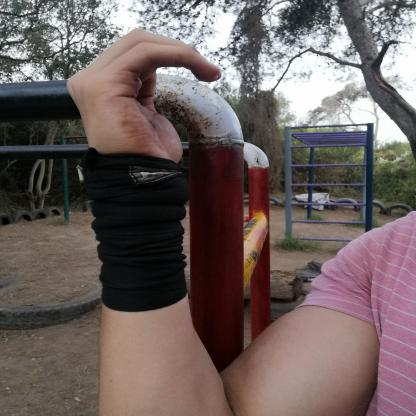HAA: (48, 17, 248, 182)
